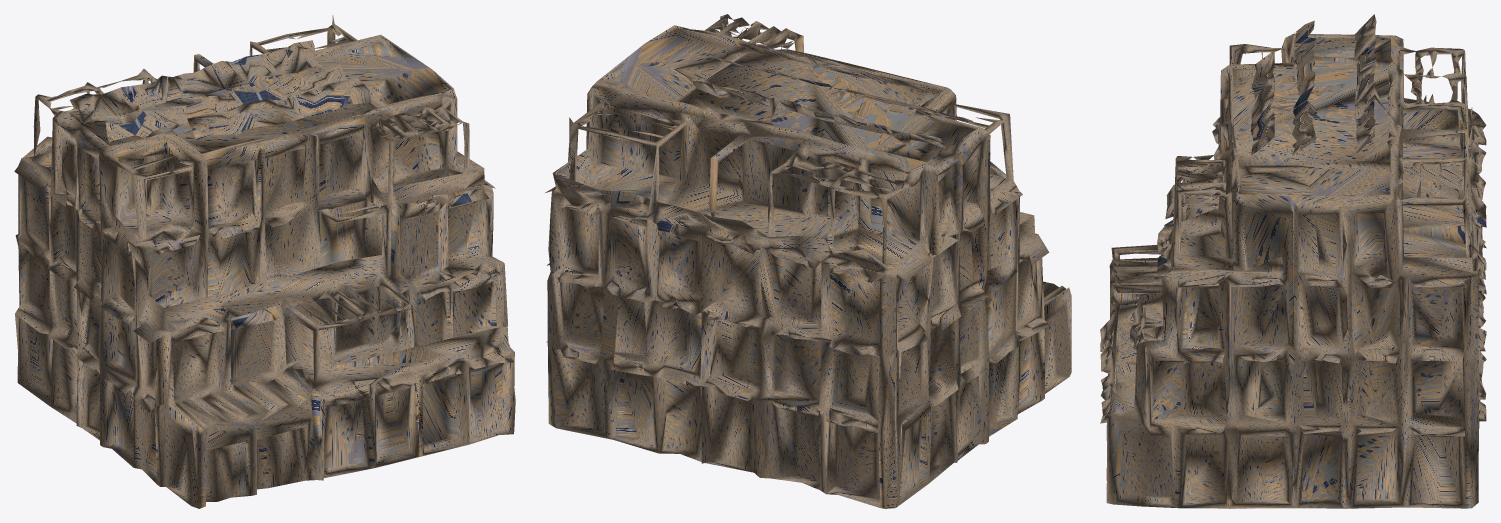
Rendered from extra_lod1.glb.
3 renders of one model, left to right at view 1: azimuth 30°, elevation 25°; view 2: azimuth 150°, elevation 25°; view 3: azimuth 270°, elevation 25°, orthographic. The views are drawn at different scales.
Bounding box in the file's own units: 2 × 1.76 × 1.86.
Materials: 1 (1 with a texture image).
